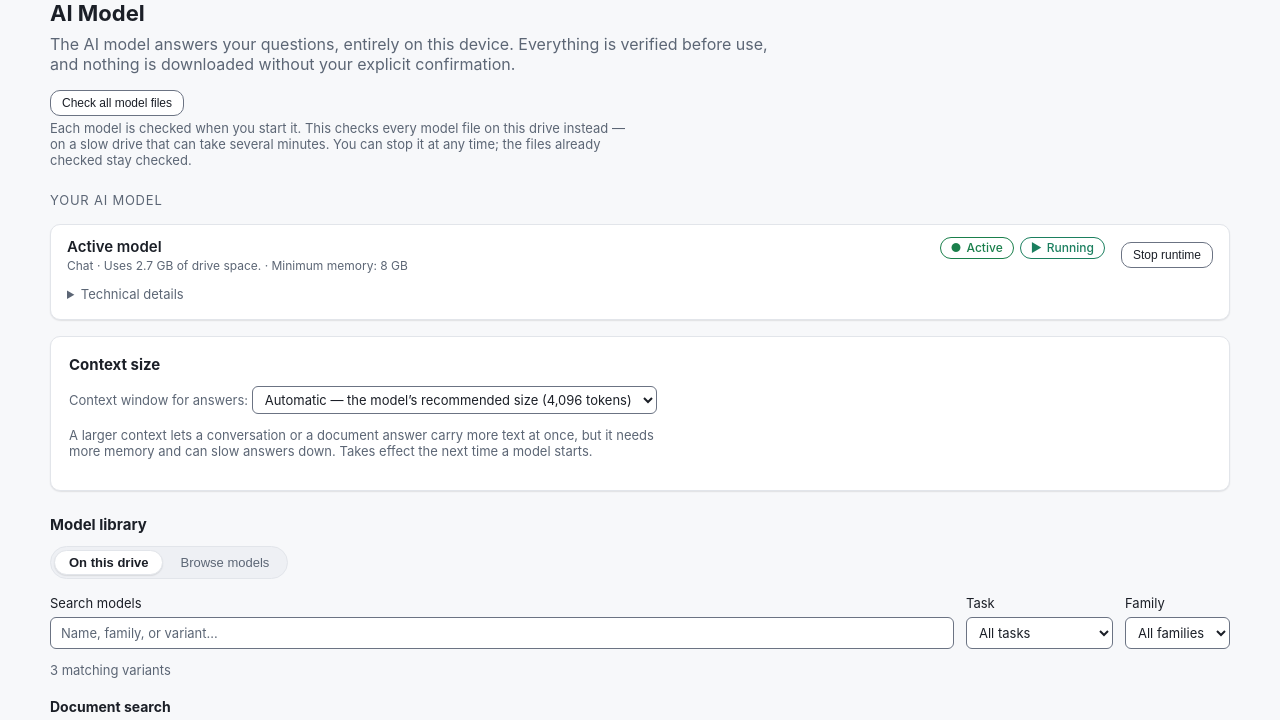
ModelsScreen — search, tasks and model variants › #313 family options follow the view and task › keeps a family selected in Browse, marked and explained, after switching to On this drive
expect the text "Active model" is shown: met, box 67,237 -> 162,256
Click the radio button labelled "Browse models" at (225, 562), box 166,550 -> 284,575
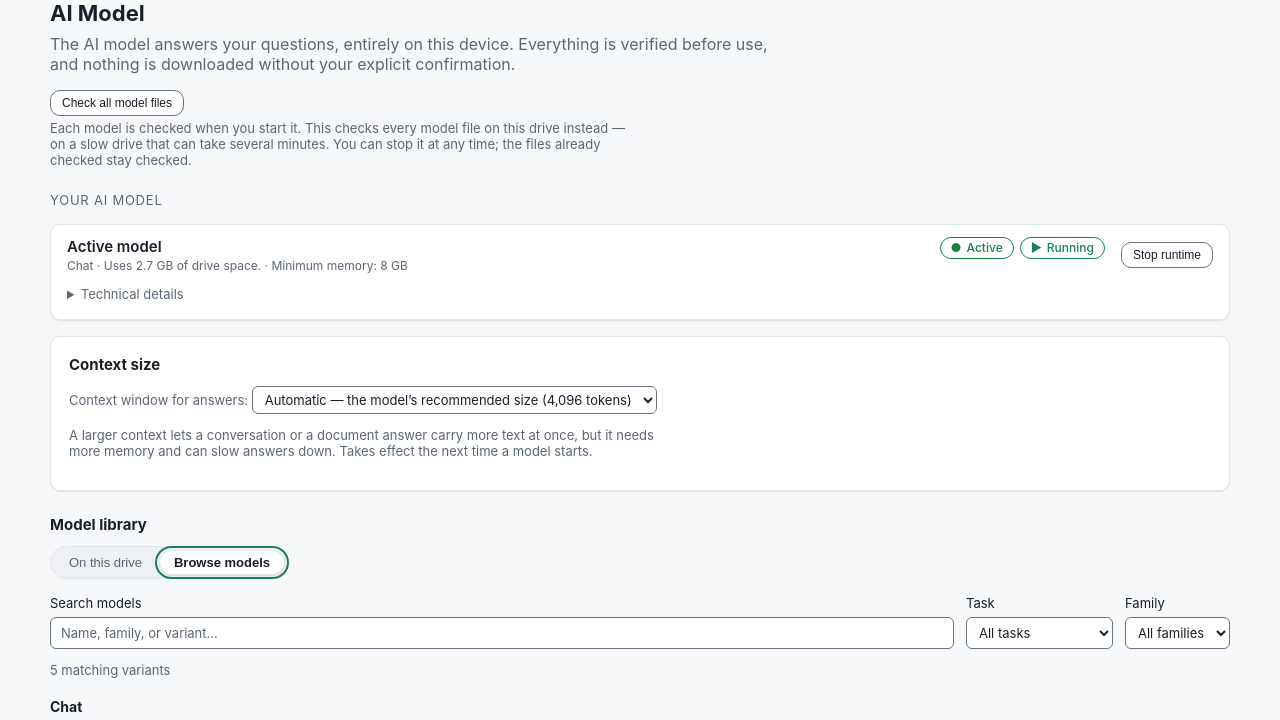
Select "phi" in the dropdown labelled "Family" at (1178, 633), box 1125,617 -> 1230,649
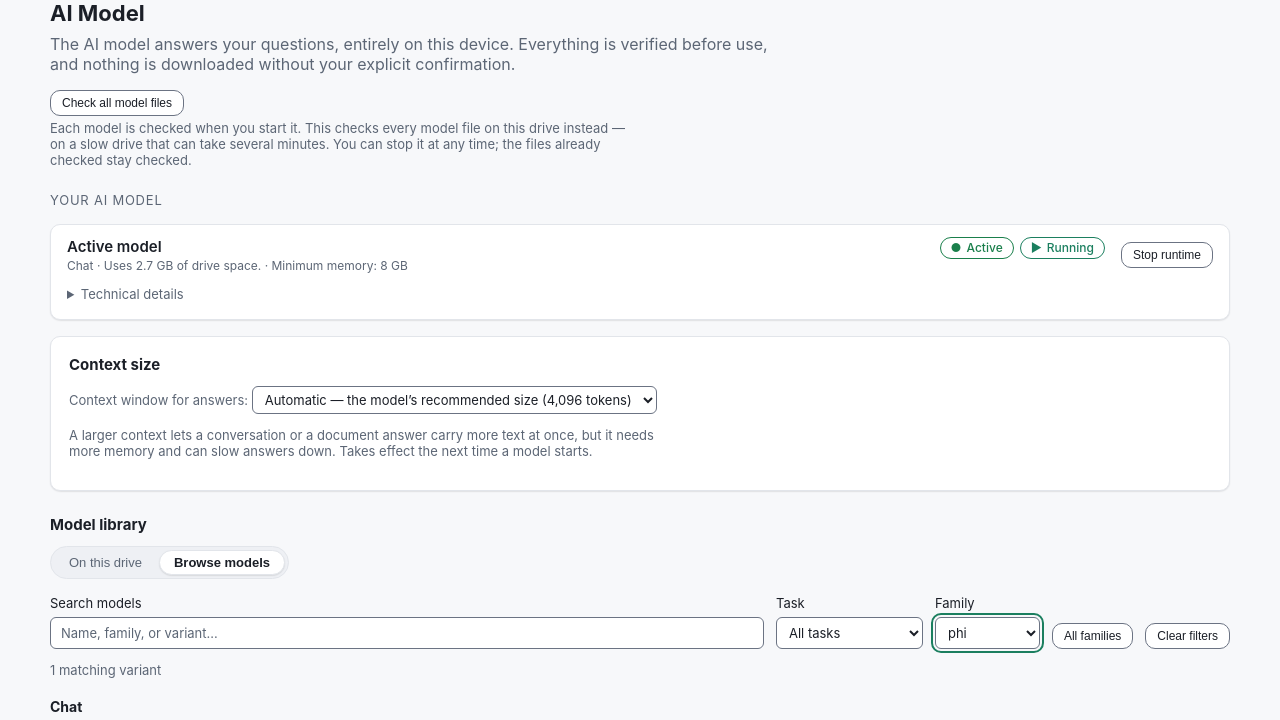
Click the radio button labelled "On this drive" at (106, 562), box 54,550 -> 157,575
(page scrolled)
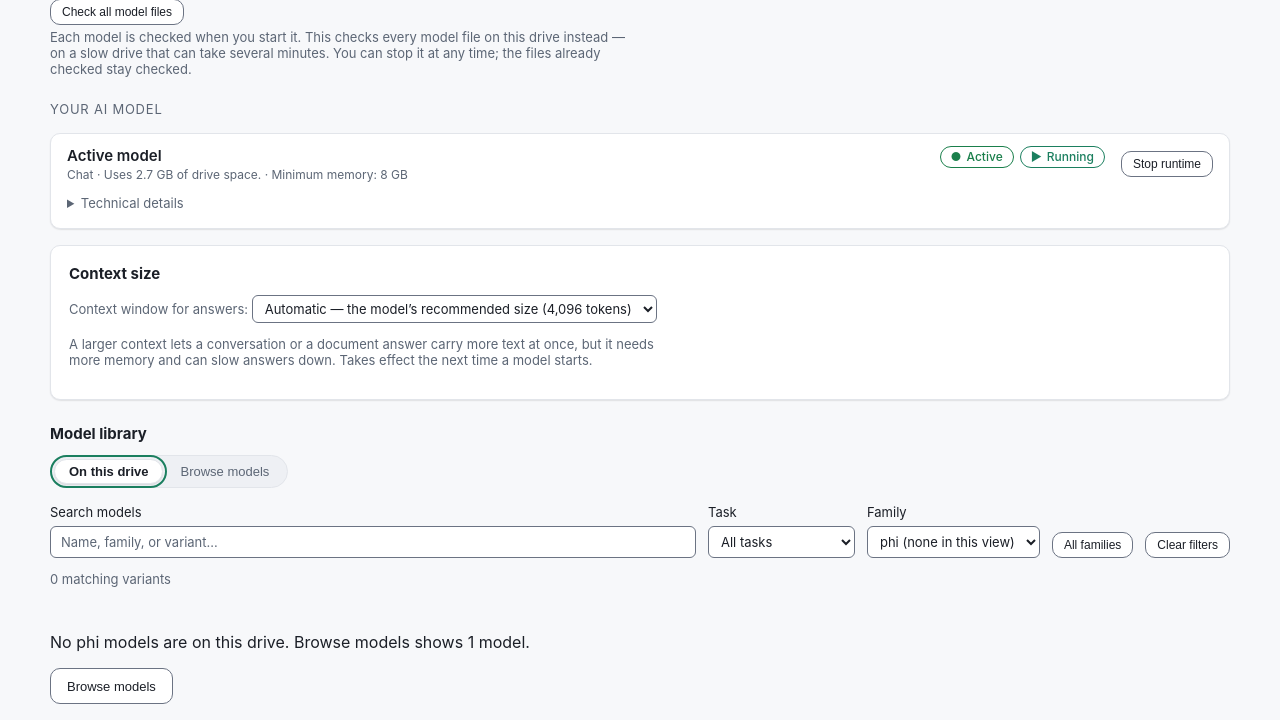
expect the text "No phi models are on this drive. Browse models shows 1 model." is shown: met, box 50,632 -> 530,652
Click the button "Browse models" at (111, 686), box 50,668 -> 173,704
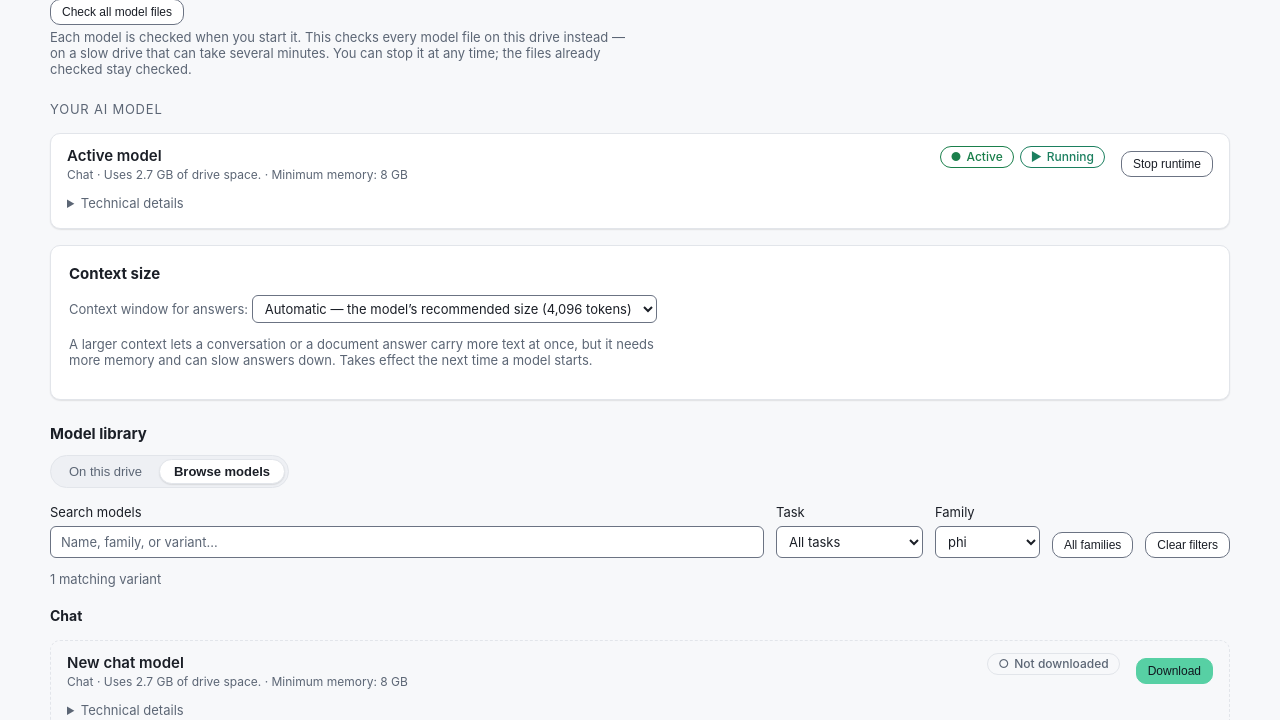
expect the text "New chat model" is shown: met, box 67,653 -> 184,672
expect the text "1 matching variant" is shown: met, box 50,571 -> 161,587
